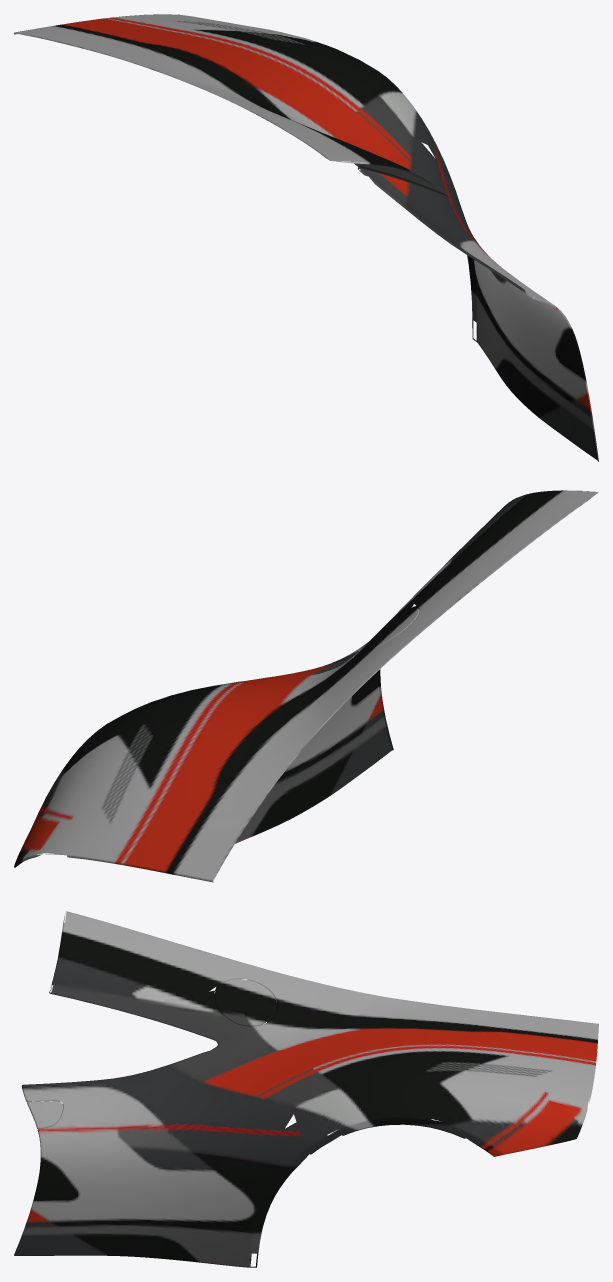
The model's file is sparkboard_lr.glb.
3 views of the same model, one above another, from view 1: azimuth 30°, elevation 25°; view 2: azimuth 150°, elevation 25°; view 3: azimuth 270°, elevation 25° (orthographic). The views are drawn at different scales.
Parts seen in each view (by area): view 1: amgprojone_body.002_amgprojone_paint_0.003; view 2: amgprojone_body.002_amgprojone_paint_0.003; view 3: amgprojone_body.002_amgprojone_paint_0.003.
Boxes of the visible parts, box(x1,y1,x2,y2) form: amgprojone_body.002_amgprojone_paint_0.003: box(14, 14, 598, 461); amgprojone_body.002_amgprojone_paint_0.003: box(14, 490, 598, 882); amgprojone_body.002_amgprojone_paint_0.003: box(14, 911, 598, 1267).
Bounding box in the file's own units: 0.5968 × 0.7075 × 1.46.
Materials: 1 (1 with a texture image).
